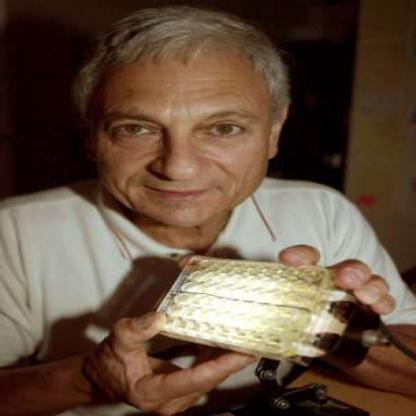face: (87, 21, 278, 230)
